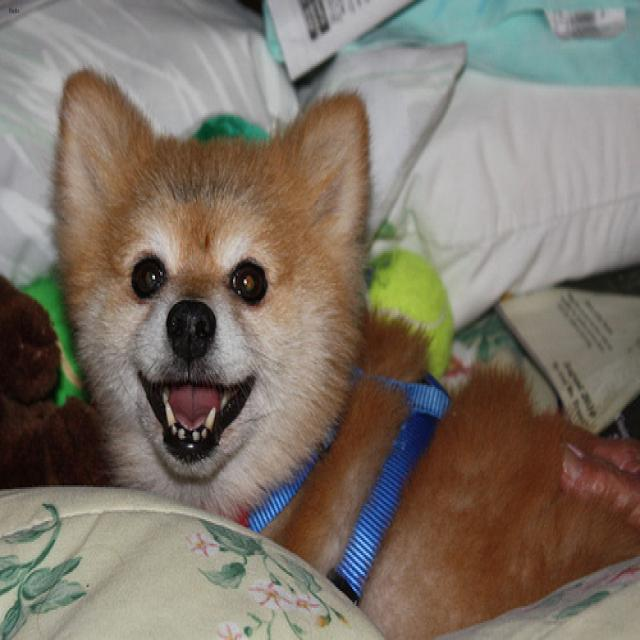dog-pomeranian: (44, 57, 637, 636)
